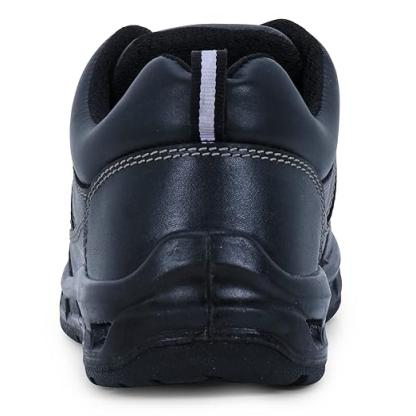bota: (55, 17, 346, 393)
